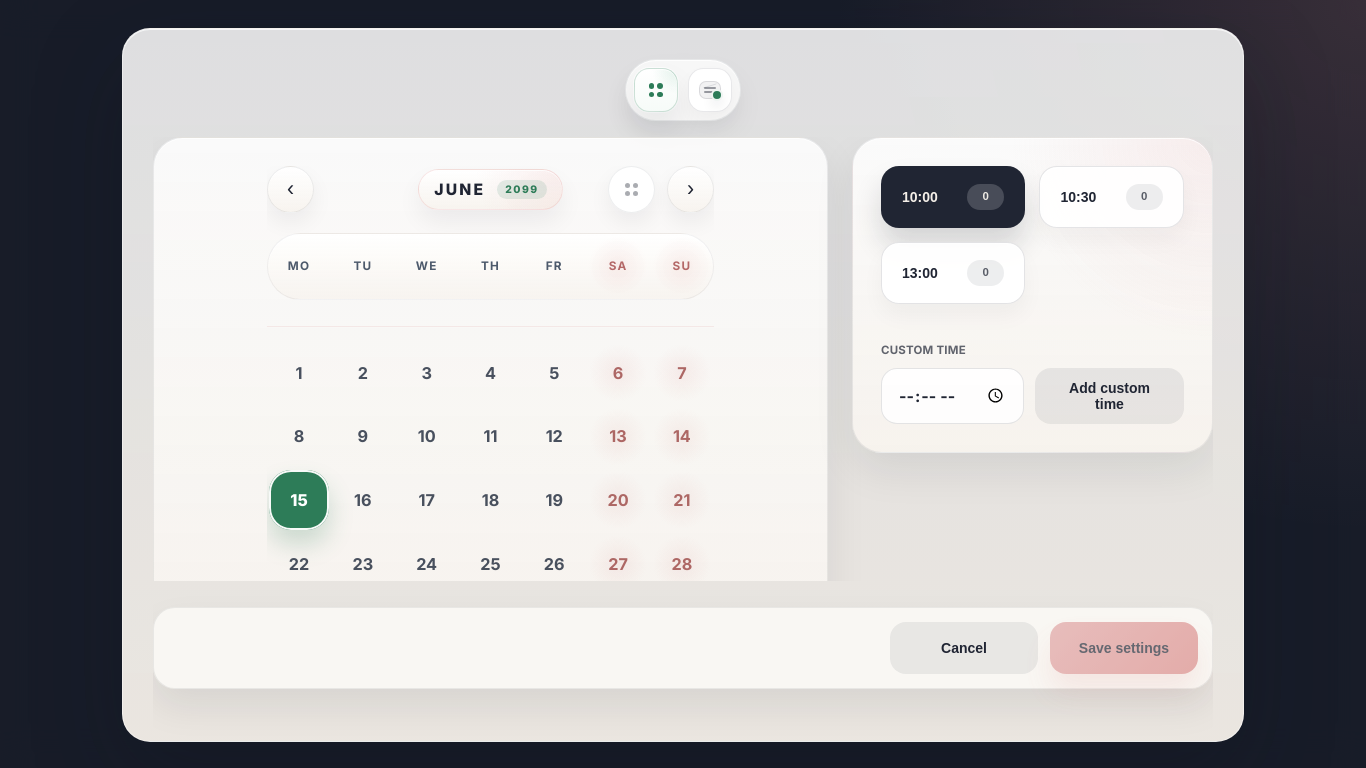
FreeTourScheduleEditorModal › keeps save enabled after removing the last remaining time slot
Expected: the button "Save settings" is disabled, [1050,622,1198,674]
Click the button "10:00 0" at [953, 197], box [881,166,1026,228]
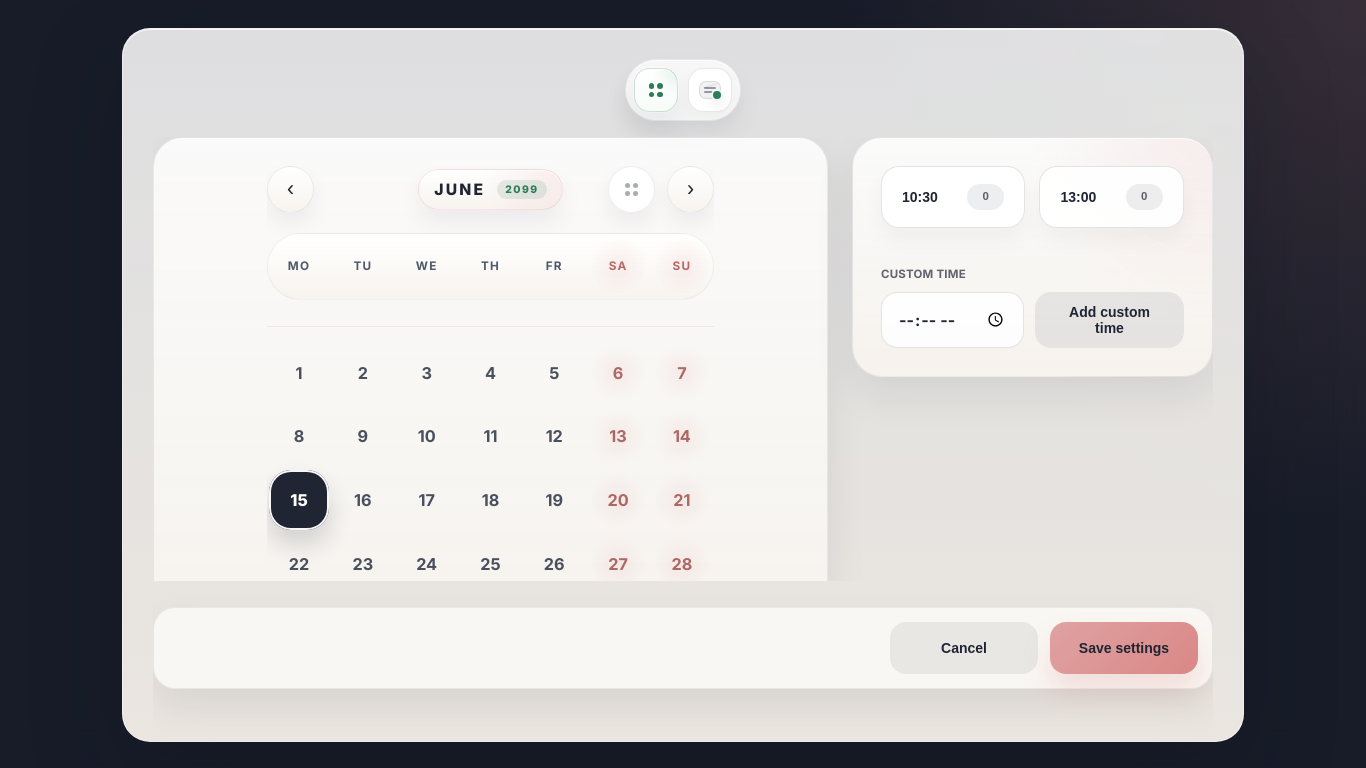
Now the button "Save settings" is enabled, box [1050,622,1198,674]
